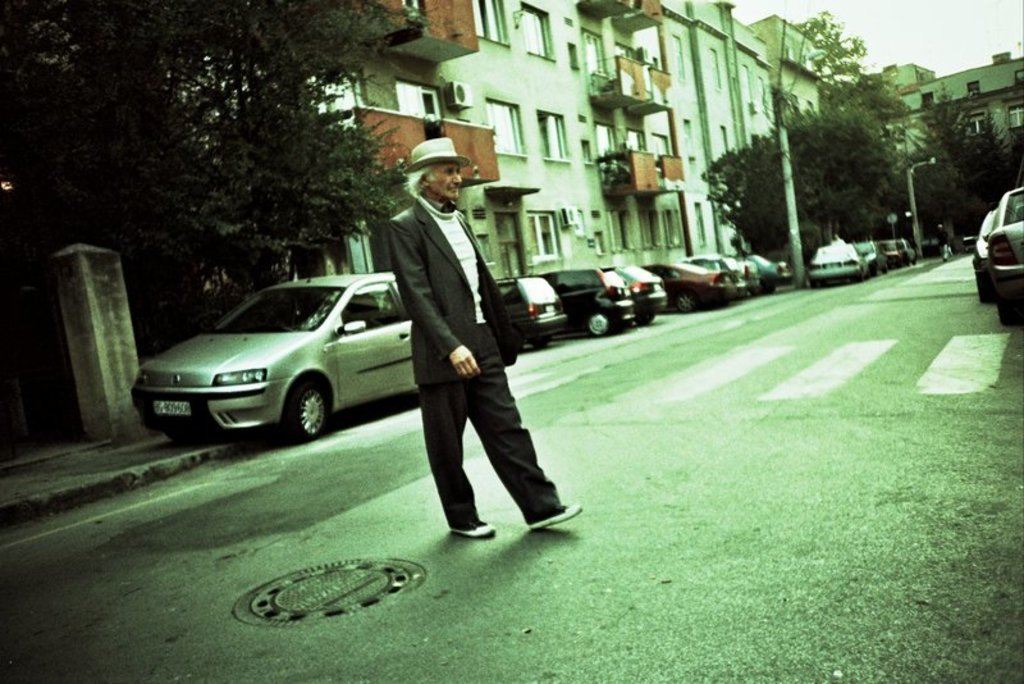Footwear: (526, 502, 582, 530), (444, 519, 499, 543)
